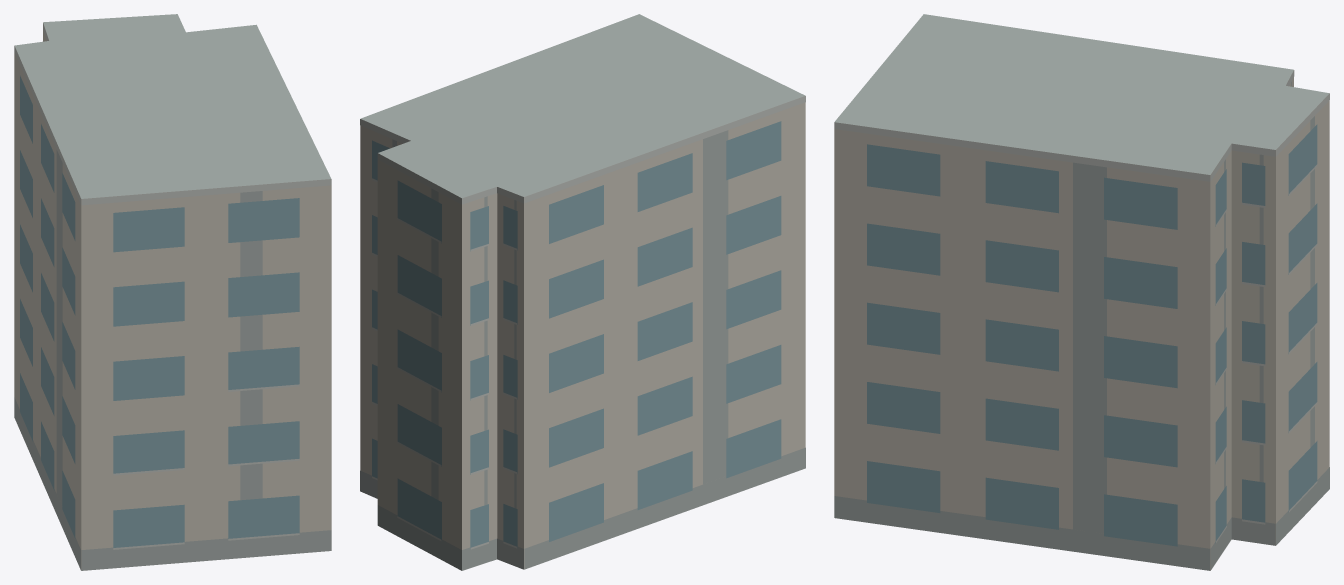
File: survey-upis-32996569.glb
3 renders of one model, left to right at view 1: azimuth 30°, elevation 25°; view 2: azimuth 150°, elevation 25°; view 3: azimuth 270°, elevation 25°, orthographic. The views are drawn at different scales.
Visible parts, largest first — view 1: survey-upis-32996569.tmp; view 2: survey-upis-32996569.tmp; view 3: survey-upis-32996569.tmp.
Boxes of the visible parts, x1,y1,x2,y2 form: survey-upis-32996569.tmp: [14, 14, 331, 570]; survey-upis-32996569.tmp: [360, 14, 805, 570]; survey-upis-32996569.tmp: [834, 14, 1329, 570].
Size of the model in its own units: 12.31 by 14.1 by 16.01.
